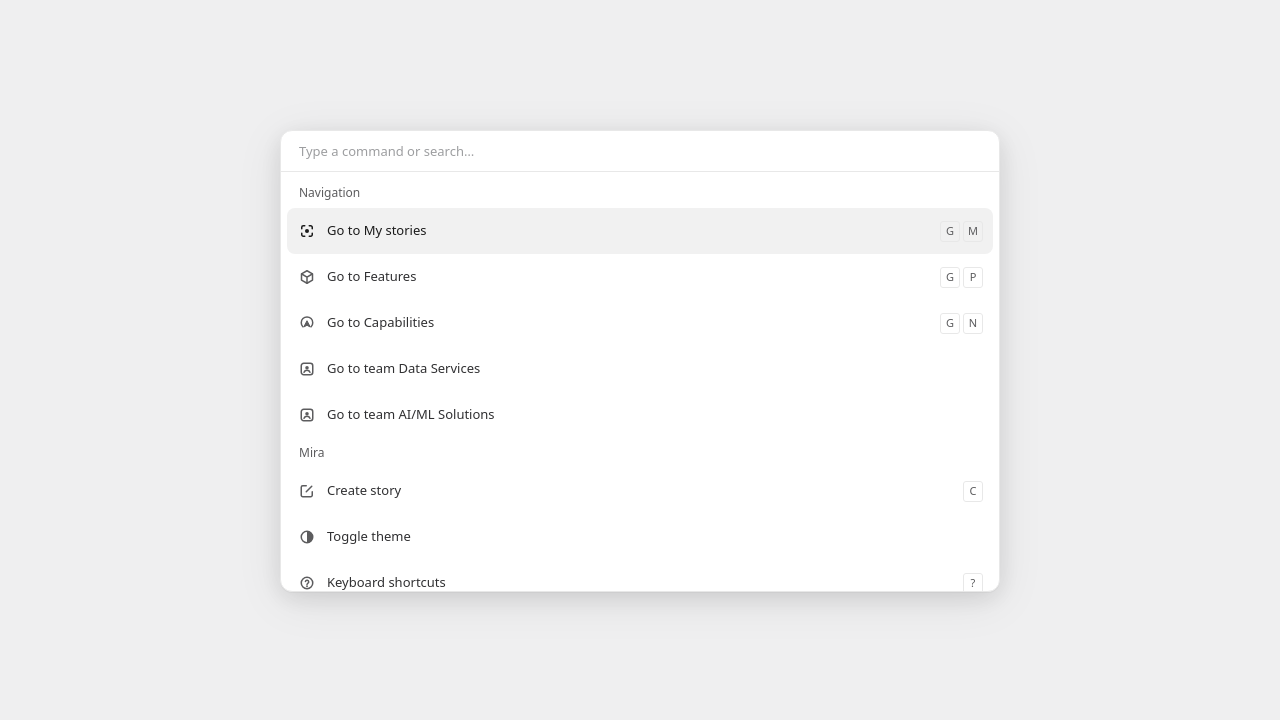
typed queries show Quick results: features first, then stories packed tight
Type "feature" into the dropdown with placeholder "Type a command or search…".
click(640, 151); type("feature")  # box x1=287 y1=131 x2=993 y2=171
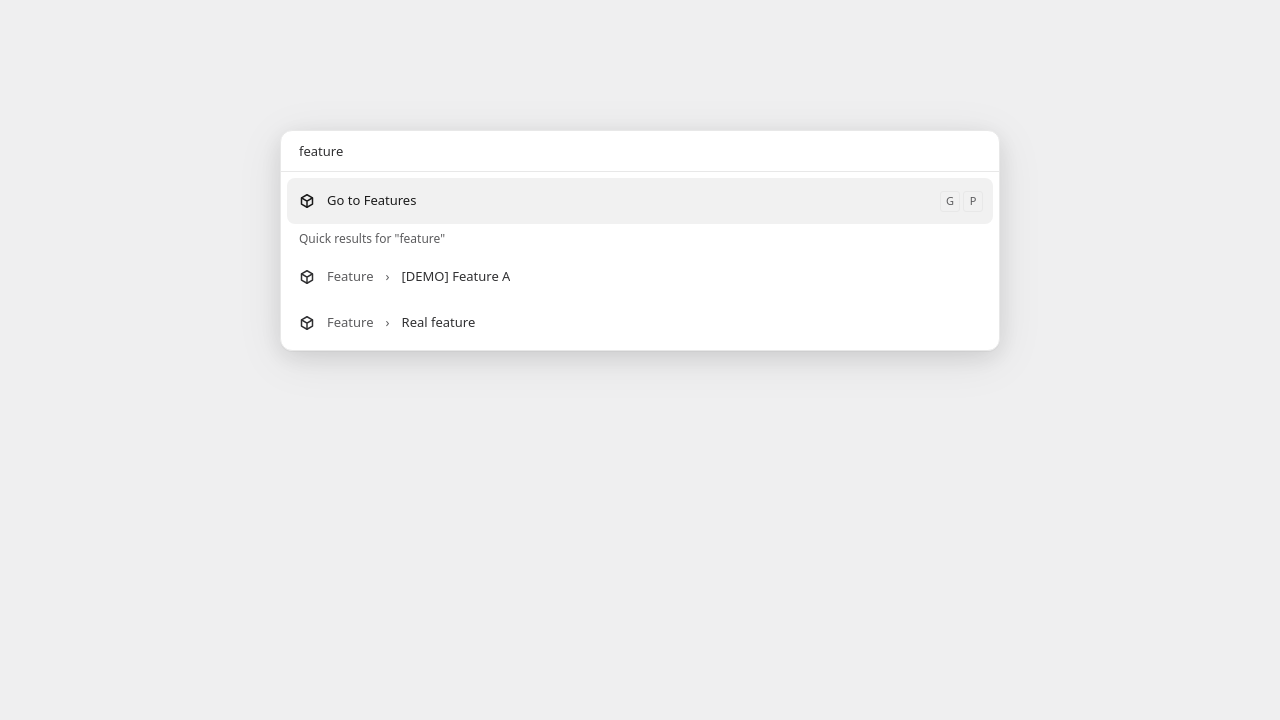
Now the option "Feature › [DEMO] Feature A" is shown, box x1=299 y1=267 x2=510 y2=285
